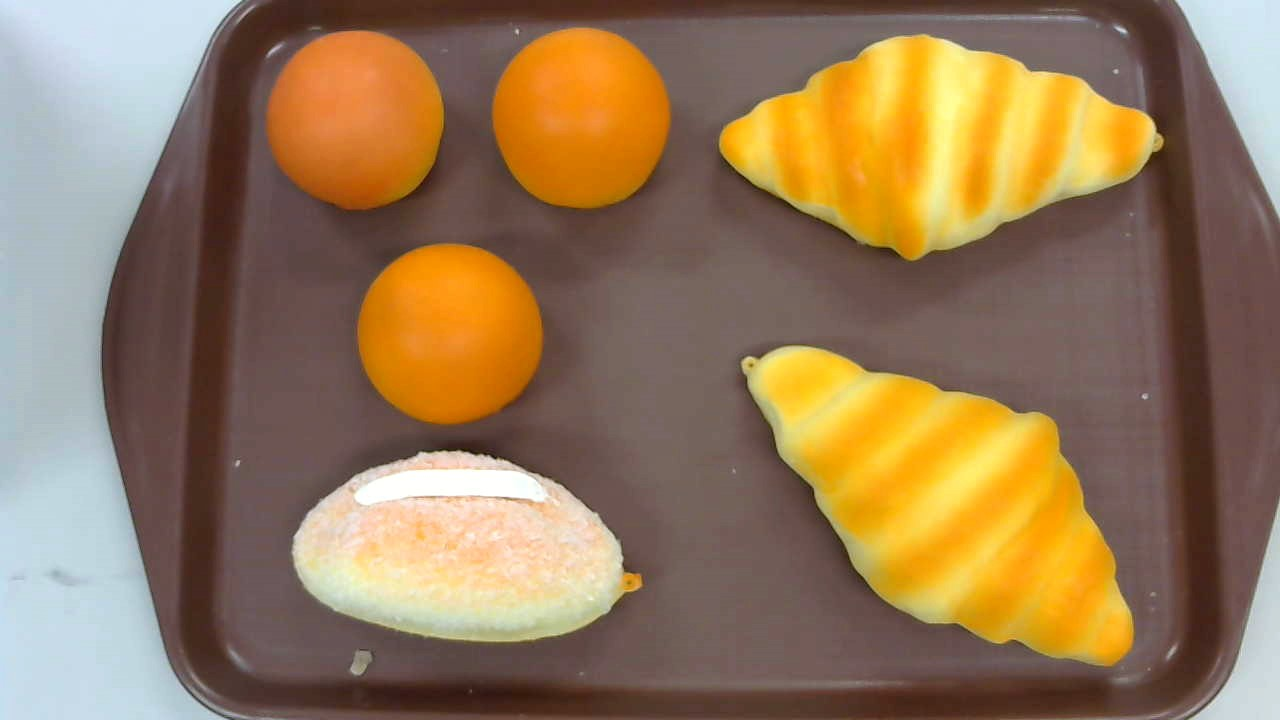bun: (356, 242, 544, 426), (491, 26, 671, 209), (266, 30, 444, 210)
coconut: (293, 450, 643, 644)
croissant: (741, 343, 1135, 669), (718, 30, 1164, 264)
